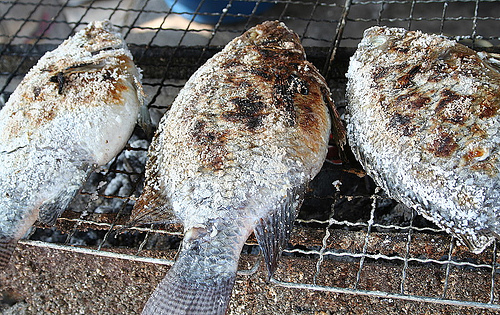fish: (120, 19, 350, 314), (0, 19, 144, 270), (351, 24, 499, 256)
